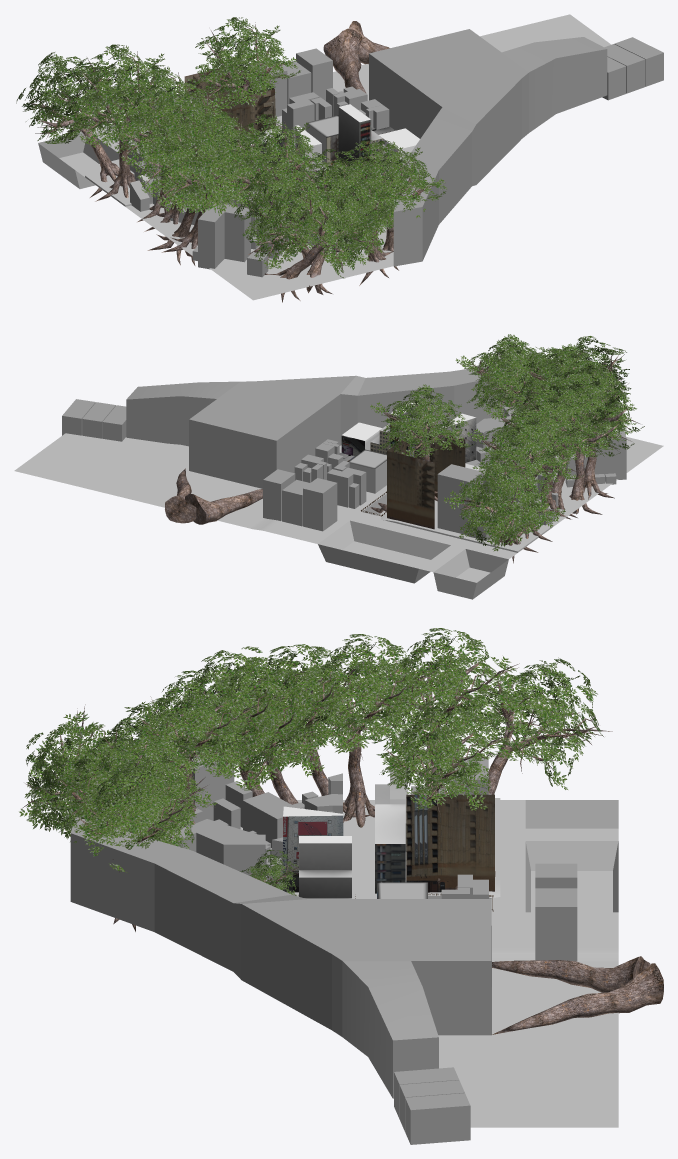
The model's file is terrain.fbx.
The picture shows the model from 3 angles, top to bottom: view 1: azimuth 30°, elevation 25°; view 2: azimuth 150°, elevation 25°; view 3: azimuth 270°, elevation 25°; orthographic projection. The views are drawn at different scales.
Parts seen in each view (by area): view 1: terrain:pCube1, terrain:pPlane1, terrain:bigtree8, terrain:bigtree5, bigtree, bigtree1, terrain:bigtree6, terrain:tree_bigbig:bigtree, bigtree5, bigtree6, bigtree8, bigtree2 (+25 smaller); view 2: terrain:pPlane1, terrain:pCube1, terrain:bigtree6, terrain:pCube33, terrain:bigtree5, bigtree5, terrain:bigtree8, bigtree6, terrain:leaves1, bigtree3, terrain:leaves2, bigtree8 (+23 smaller); view 3: terrain:pCube1, terrain:pPlane1, bigtree5, terrain:bigtree6, terrain:bigtree5, terrain:pCube33, terrain:tree_bigbig:bigtree, bigtree6, bigtree, terrain:bigtree8, bigtree8, bigtree4 (+23 smaller).
Part boxes in pixels (x1,y1,x2,y2): terrain:pCube1: (369, 29, 607, 266); terrain:pPlane1: (38, 14, 611, 300); terrain:bigtree8: (161, 109, 276, 265); terrain:bigtree5: (70, 44, 182, 201); bigtree: (264, 164, 384, 302); bigtree1: (234, 155, 333, 268); terrain:bigtree6: (16, 52, 131, 197); terrain:tree_bigbig:bigtree: (225, 114, 329, 255); bigtree5: (111, 65, 223, 222); bigtree6: (135, 90, 243, 231); bigtree8: (147, 111, 264, 265); bigtree2: (299, 152, 404, 285); terrain:pPlane1: (14, 428, 663, 599); terrain:pCube1: (126, 366, 533, 488); terrain:bigtree6: (443, 459, 565, 563); terrain:pCube33: (387, 430, 465, 529); terrain:bigtree5: (466, 409, 583, 541); bigtree5: (486, 387, 602, 519); terrain:bigtree8: (526, 359, 644, 499); bigtree6: (510, 377, 620, 517); terrain:leaves1: (370, 384, 468, 457); bigtree3: (463, 339, 547, 416); terrain:leaves2: (378, 388, 475, 457); bigtree8: (517, 375, 634, 514); terrain:pCube1: (70, 817, 491, 1098); terrain:pPlane1: (167, 798, 618, 1127); bigtree5: (289, 634, 440, 827); terrain:bigtree6: (471, 657, 612, 794); terrain:bigtree5: (370, 628, 519, 793); terrain:pCube33: (406, 794, 494, 892); terrain:tree_bigbig:bigtree: (124, 670, 261, 828); bigtree6: (242, 644, 369, 822); bigtree: (19, 704, 140, 839); terrain:bigtree8: (162, 646, 304, 796); bigtree8: (203, 658, 327, 804); bigtree4: (57, 766, 196, 931).
Size of the model in its own units: 3281 by 957 by 2479.
